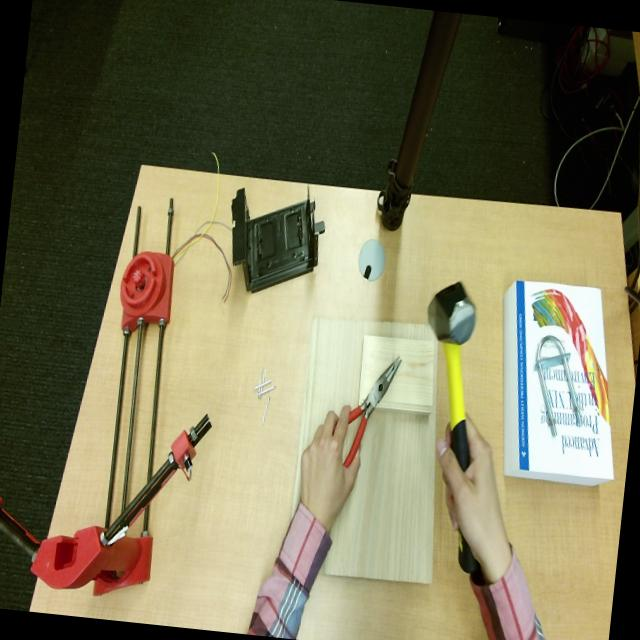hammer: (427, 283, 476, 471), (458, 532, 478, 572)
pliers: (343, 357, 400, 468)
